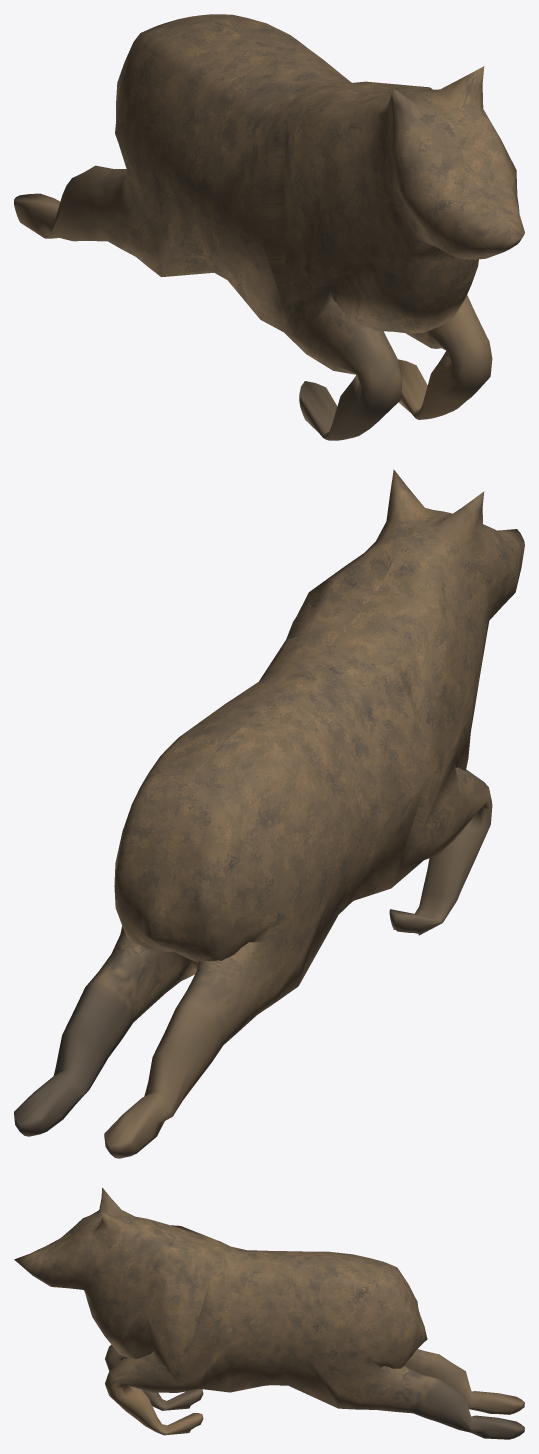
File: piesblend_000020.obj
3 views of the same model, one above another, from view 1: azimuth 30°, elevation 25°; view 2: azimuth 150°, elevation 25°; view 3: azimuth 270°, elevation 25° (orthographic). The views are drawn at different scales.
Parts seen in each view (by area): view 1: Cube; view 2: Cube; view 3: Cube.
Part boxes in pixels (box(x1,y1,x2,y2)): Cube: box(14, 14, 524, 440); Cube: box(14, 469, 524, 1158); Cube: box(14, 1188, 524, 1439).
Bounding box in the file's own units: 2.55 × 5.34 × 10.86.
1 material, 1 textured.
